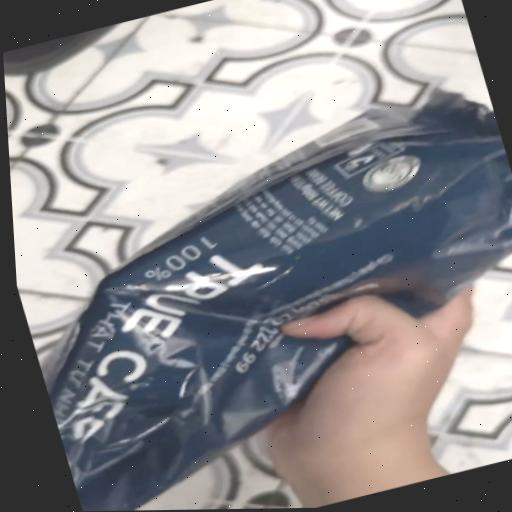cafe_hat: (42, 91, 512, 511)
